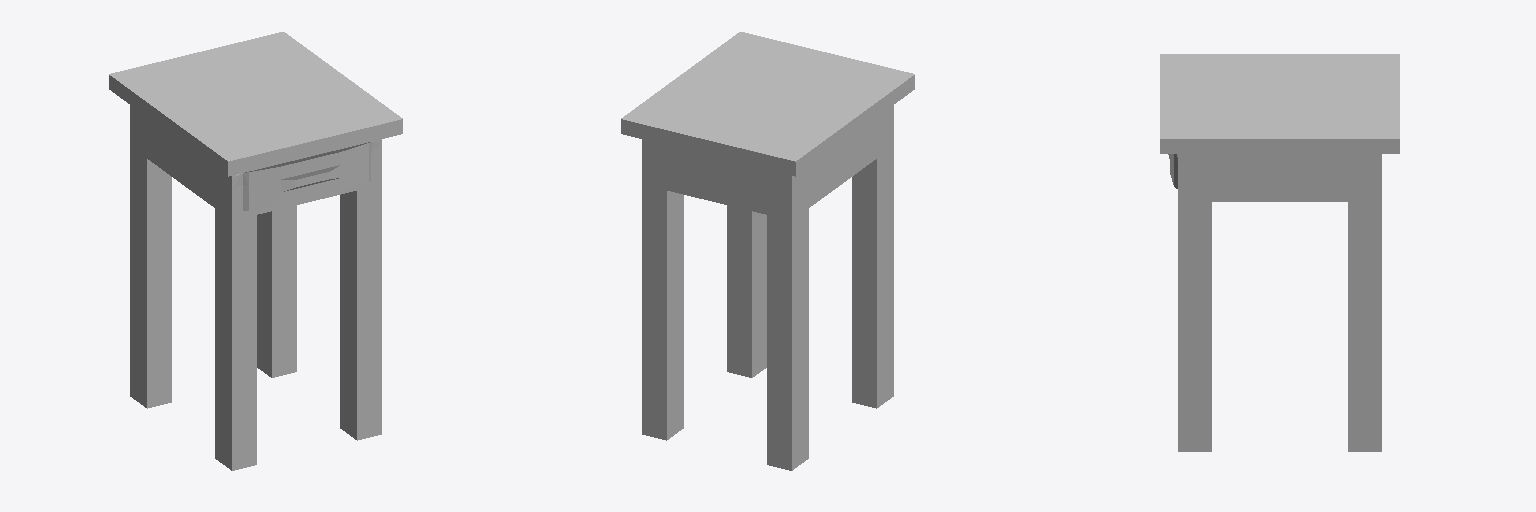
The model's file is sideTable.obj.
3 renders of one model, left to right at view 1: azimuth 30°, elevation 25°; view 2: azimuth 150°, elevation 25°; view 3: azimuth 270°, elevation 25°, orthographic.
Parts seen in each view (by area): view 1: pCube1; view 2: pCube1; view 3: pCube1.
Part boxes in pixels (x1,y1,x2,y2): pCube1: (109,32,402,470); pCube1: (621,32,914,470); pCube1: (1160,54,1399,451).
Size of the model in its own units: 3.95 by 6.88 by 4.68.